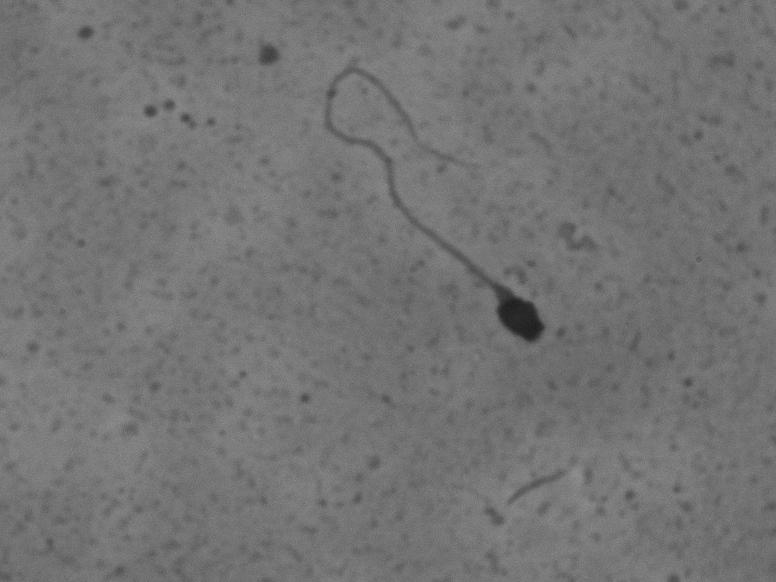Abnormal: (263, 57, 579, 386)
